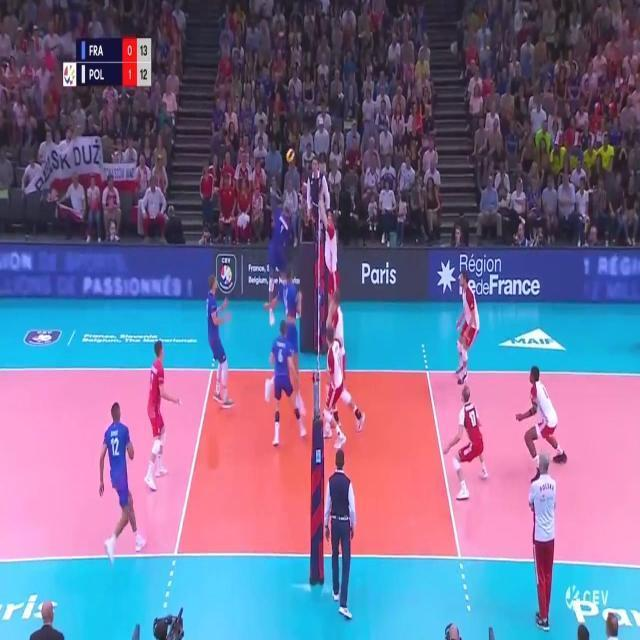volleyball: (286, 148, 296, 162)
